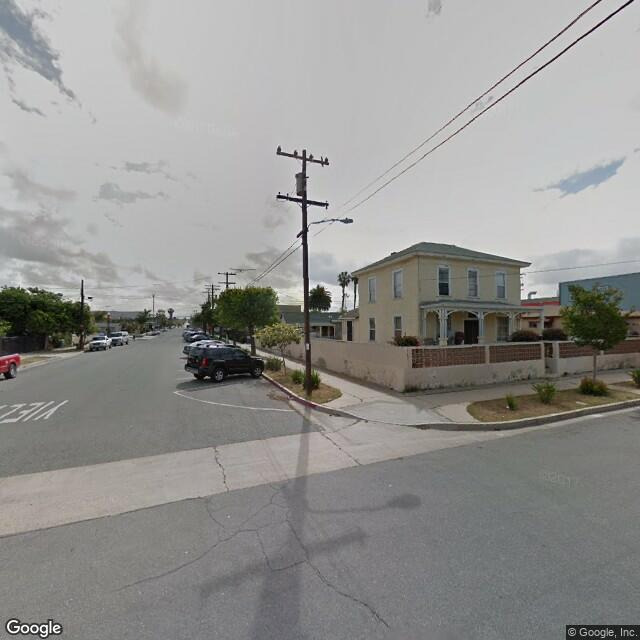litter: (504, 403, 512, 412)
